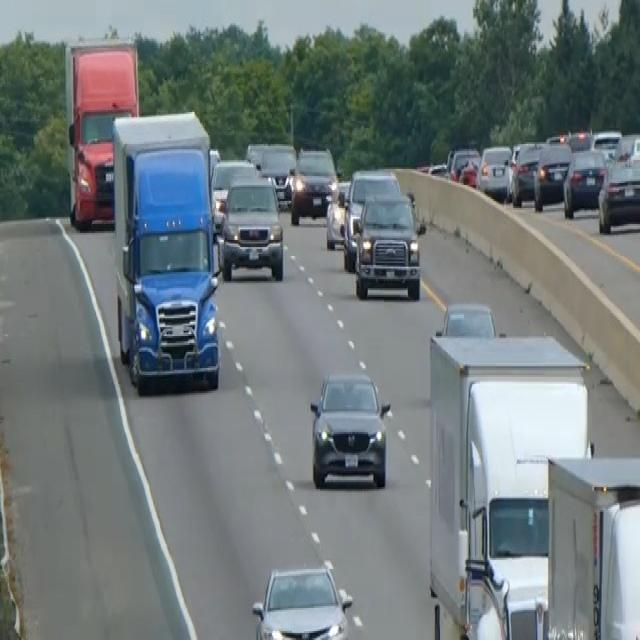car: (251, 562, 353, 638), (217, 174, 284, 281), (341, 167, 400, 270), (289, 144, 337, 224), (210, 156, 257, 236), (562, 146, 607, 218), (597, 158, 639, 233), (533, 137, 572, 210), (434, 298, 497, 338), (259, 142, 296, 206), (510, 139, 544, 206), (476, 142, 512, 199), (325, 178, 351, 249), (448, 146, 480, 185), (592, 128, 622, 162), (566, 128, 593, 153), (245, 140, 267, 170), (457, 156, 478, 186)
jeep: (308, 368, 392, 489), (353, 190, 423, 300)
lorry: (109, 107, 223, 393), (544, 452, 639, 638)
